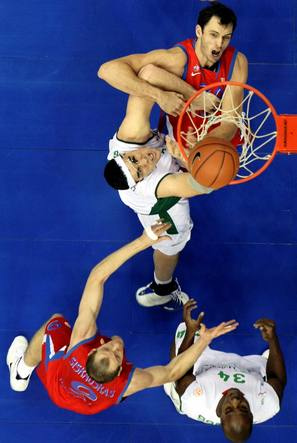basketball: (187, 138, 239, 190)
